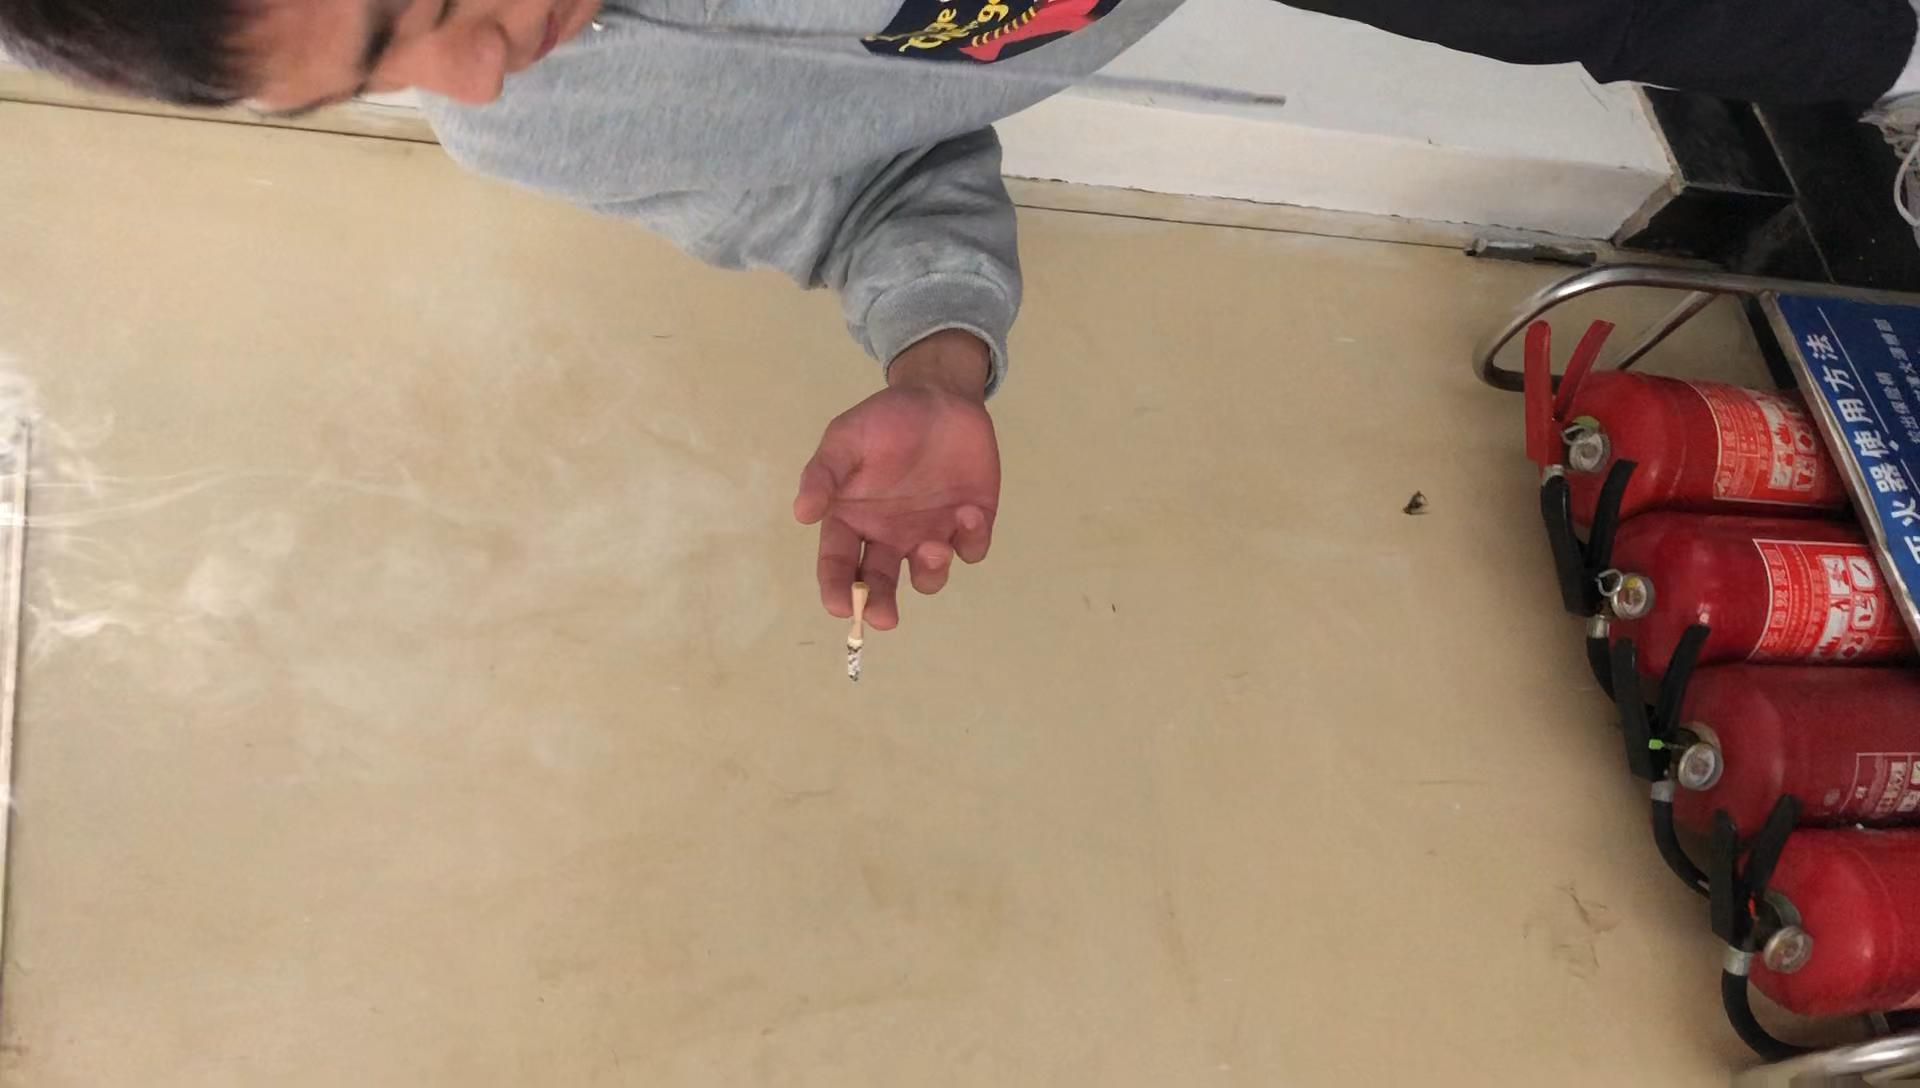yanwu: (3, 397, 647, 658)
